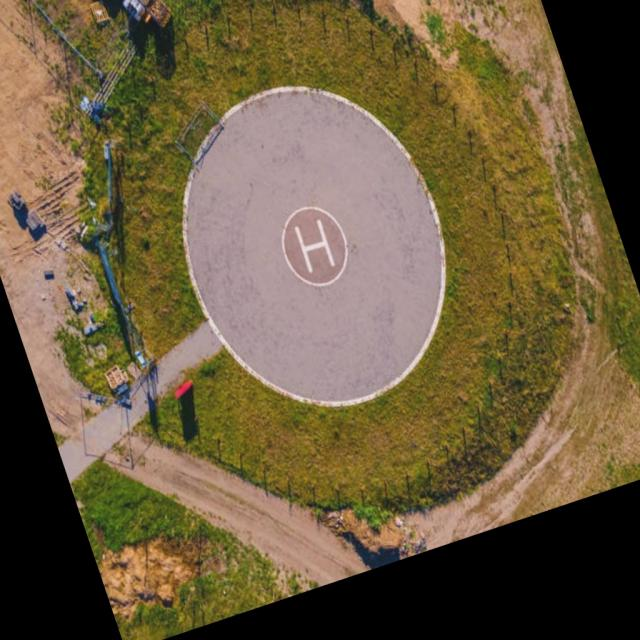helipad: (278, 203, 349, 287)
